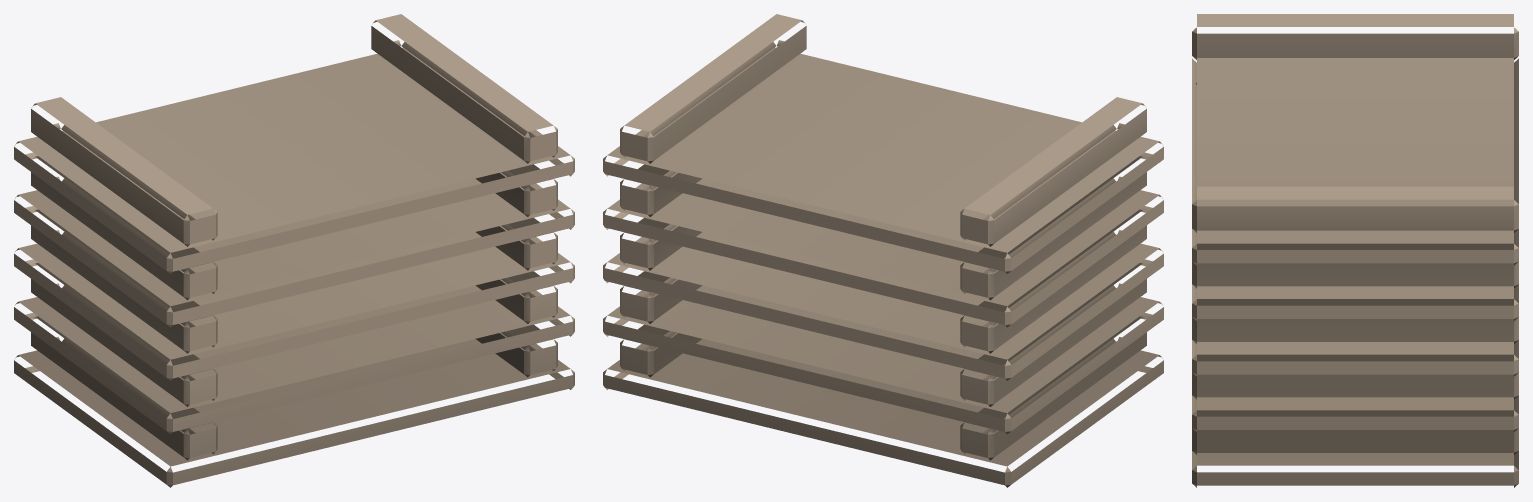
File: pallet_stack.glb
The picture shows the model from 3 angles, left to right: view 1: azimuth 30°, elevation 25°; view 2: azimuth 150°, elevation 25°; view 3: azimuth 270°, elevation 25°; orthographic projection. The views are drawn at different scales.
Parts seen in each view (by area): view 1: props_pallet_stack; view 2: props_pallet_stack; view 3: props_pallet_stack.
Boxes of the visible parts, bbox=[...] form: props_pallet_stack: bbox=[14, 14, 574, 487]; props_pallet_stack: bbox=[603, 14, 1163, 487]; props_pallet_stack: bbox=[1192, 14, 1518, 487].
Bounding box in the file's own units: 1.2 × 0.7551 × 0.8.
